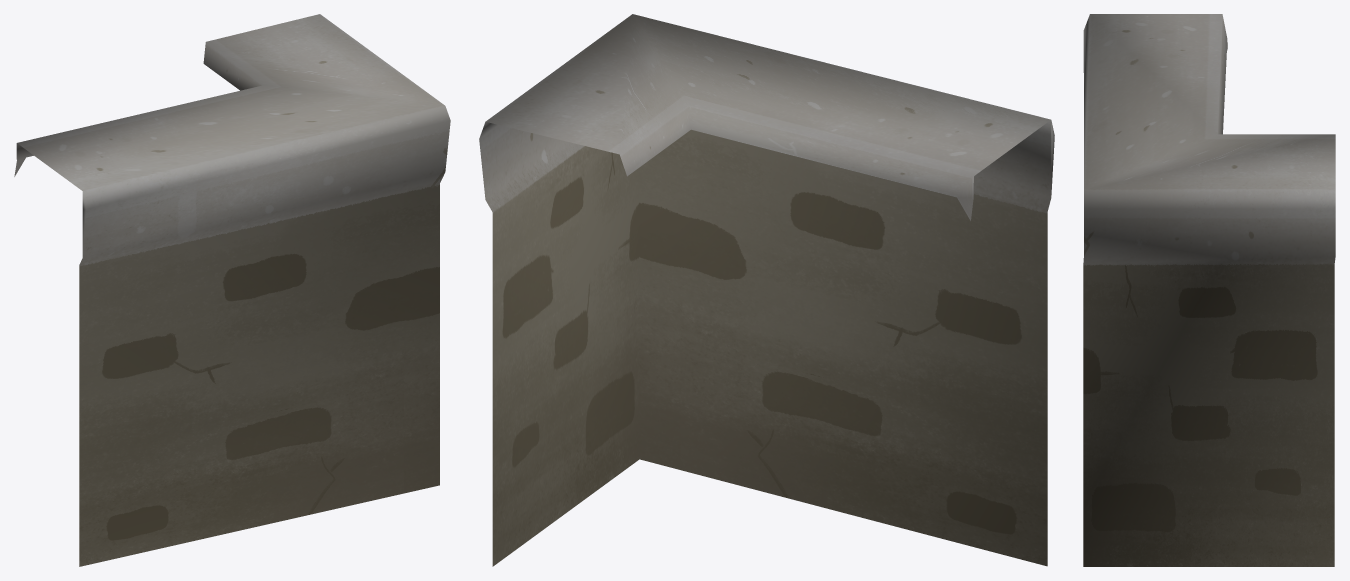
The model's file is Gracht_V2_Hoek.fbx.
The picture shows the model from 3 angles, left to right: view 1: azimuth 30°, elevation 25°; view 2: azimuth 150°, elevation 25°; view 3: azimuth 270°, elevation 25°; orthographic projection. The views are drawn at different scales.
Parts seen in each view (by area): view 1: Plane.000; view 2: Plane.000; view 3: Plane.000.
Boxes of the visible parts, bbox=[...] form: Plane.000: bbox=[14, 14, 450, 566]; Plane.000: bbox=[479, 14, 1054, 566]; Plane.000: bbox=[1083, 14, 1335, 566].
Bounding box in the file's own units: 861 × 852 × 513.
